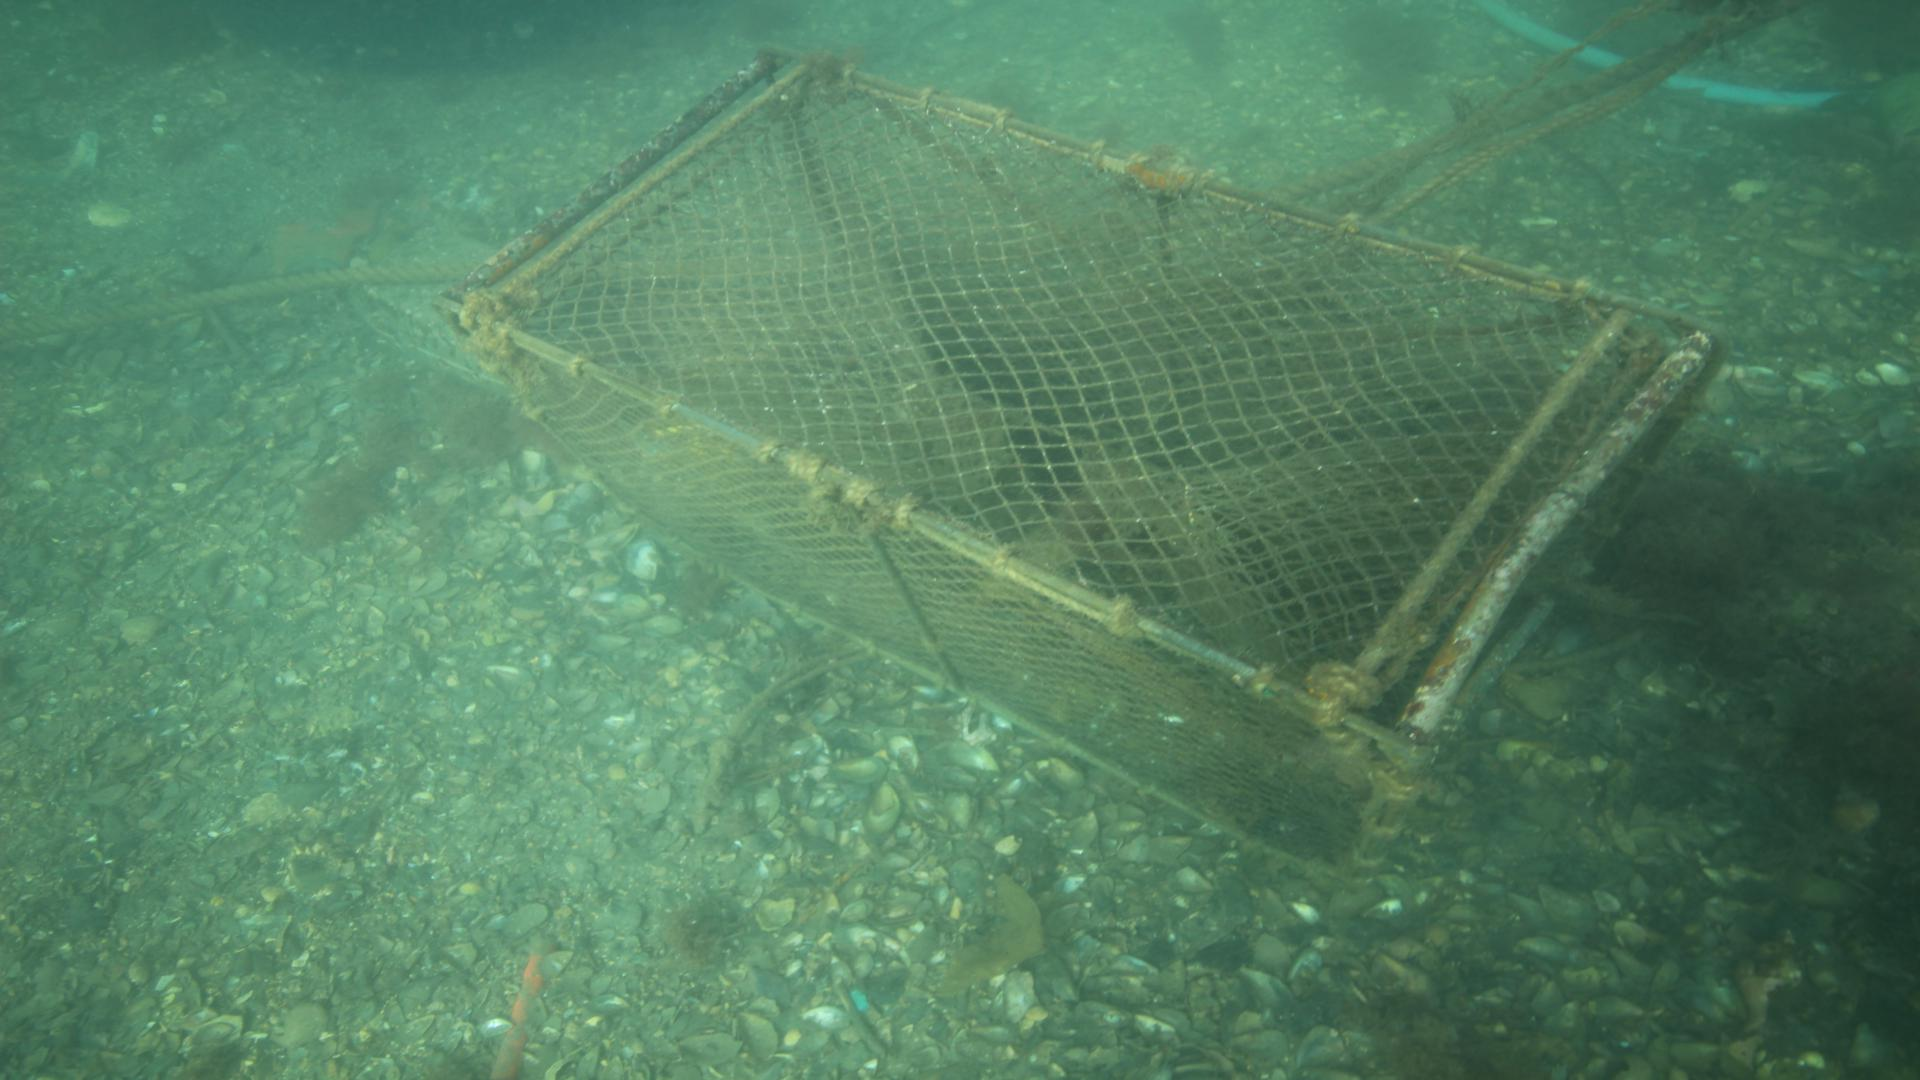bundle of ropes: (1265, 0, 1818, 225)
rectangular fish trap: (433, 44, 1724, 890)
rope: (0, 258, 444, 340)
